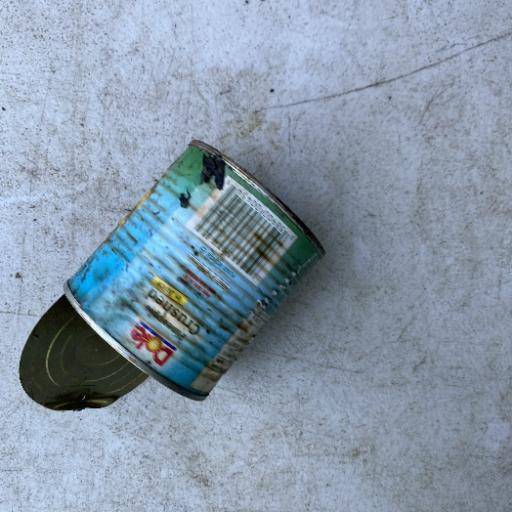Metal: (18, 137, 328, 411)
